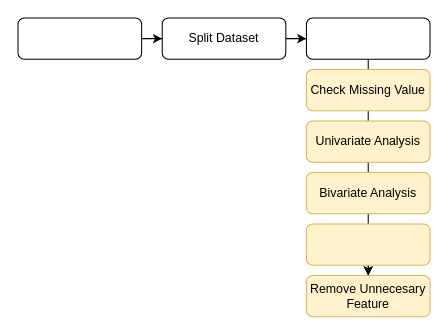
This 448x335 diagram has some shape labels left out. The box of each missing label's shape, as (x1, y1, x2, y2) in pixels:
Check Correlation: (305, 223, 430, 265)
Choosing Dataset: (17, 17, 142, 59)
Exploratory Data Analysis: (305, 17, 430, 59)
